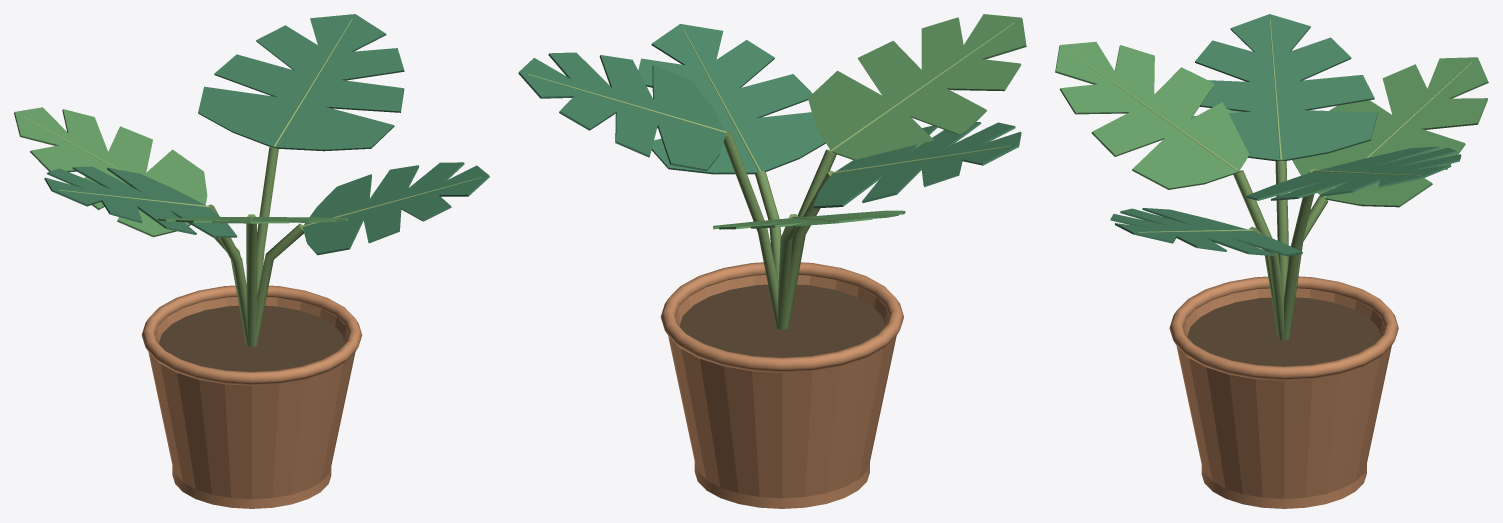
File: houseplant_monstera.glb
3 views of the same model, side by side, from view 1: azimuth 30°, elevation 25°; view 2: azimuth 150°, elevation 25°; view 3: azimuth 270°, elevation 25° (orthographic). The views are drawn at different scales.
Parts seen in each view (by area): view 1: Monstera_Open_Pot, Monstera_Split_Leaf_2, Monstera_Visible_Soil, Monstera_Split_Leaf_0, Monstera_Split_Leaf_3, Monstera_Split_Leaf_4, Monstera_Pot_Rim, Monstera_Pot_Floor, Monstera_Leaf_Stem_1, Monstera_Leaf_Stem_2, Monstera_Leaf_Stem_0, Monstera_Split_Leaf_1 (+1 smaller); view 2: Monstera_Open_Pot, Monstera_Split_Leaf_1, Monstera_Split_Leaf_0, Monstera_Split_Leaf_2, Monstera_Visible_Soil, Monstera_Split_Leaf_4, Monstera_Pot_Rim, Monstera_Pot_Floor, Monstera_Leaf_Stem_2, Monstera_Split_Leaf_3, Monstera_Leaf_Stem_3, Monstera_Leaf_Stem_4 (+2 smaller); view 3: Monstera_Open_Pot, Monstera_Split_Leaf_4, Monstera_Split_Leaf_1, Monstera_Split_Leaf_3, Monstera_Visible_Soil, Monstera_Pot_Rim, Monstera_Split_Leaf_2, Monstera_Split_Leaf_0, Monstera_Pot_Floor, Monstera_Leaf_Stem_2, Monstera_Leaf_Stem_4, Monstera_Leaf_Stem_1 (+2 smaller).
Part boxes in pixels (x1,y1,x2,y2): Monstera_Open_Pot: [148, 297, 355, 499]; Monstera_Split_Leaf_2: [198, 14, 404, 151]; Monstera_Visible_Soil: [158, 305, 344, 371]; Monstera_Split_Leaf_0: [302, 162, 489, 255]; Monstera_Split_Leaf_3: [14, 107, 207, 237]; Monstera_Split_Leaf_4: [44, 166, 236, 237]; Monstera_Pot_Rim: [141, 285, 362, 385]; Monstera_Pot_Floor: [172, 466, 331, 508]; Monstera_Leaf_Stem_1: [246, 214, 257, 346]; Monstera_Leaf_Stem_2: [257, 147, 278, 294]; Monstera_Leaf_Stem_0: [255, 223, 303, 345]; Monstera_Split_Leaf_1: [157, 217, 347, 223]; Monstera_Open_Pot: [668, 275, 896, 498]; Monstera_Split_Leaf_1: [808, 14, 1026, 159]; Monstera_Split_Leaf_0: [638, 24, 825, 174]; Monstera_Split_Leaf_2: [518, 52, 725, 171]; Monstera_Visible_Soil: [679, 284, 885, 357]; Monstera_Split_Leaf_4: [813, 122, 1021, 208]; Monstera_Pot_Rim: [660, 262, 903, 372]; Monstera_Pot_Floor: [694, 462, 869, 508]; Monstera_Leaf_Stem_2: [723, 131, 778, 328]; Monstera_Split_Leaf_3: [713, 210, 905, 229]; Monstera_Leaf_Stem_3: [777, 214, 798, 329]; Monstera_Leaf_Stem_4: [785, 170, 833, 329]; Monstera_Open_Pot: [1176, 288, 1391, 498]; Monstera_Split_Leaf_4: [1191, 14, 1377, 161]; Monstera_Split_Leaf_1: [1055, 41, 1249, 189]; Monstera_Split_Leaf_3: [1292, 57, 1488, 207]; Monstera_Visible_Soil: [1187, 297, 1380, 366]; Monstera_Pot_Rim: [1169, 276, 1398, 380]; Monstera_Split_Leaf_2: [1246, 146, 1461, 200]; Monstera_Split_Leaf_0: [1110, 208, 1302, 256]; Monstera_Pot_Floor: [1201, 464, 1366, 508]; Monstera_Leaf_Stem_2: [1284, 169, 1316, 340]; Monstera_Leaf_Stem_4: [1275, 161, 1288, 296]; Monstera_Leaf_Stem_1: [1233, 170, 1280, 339].
Size of the model in its own units: 0.9163 by 0.8368 by 0.8545.
